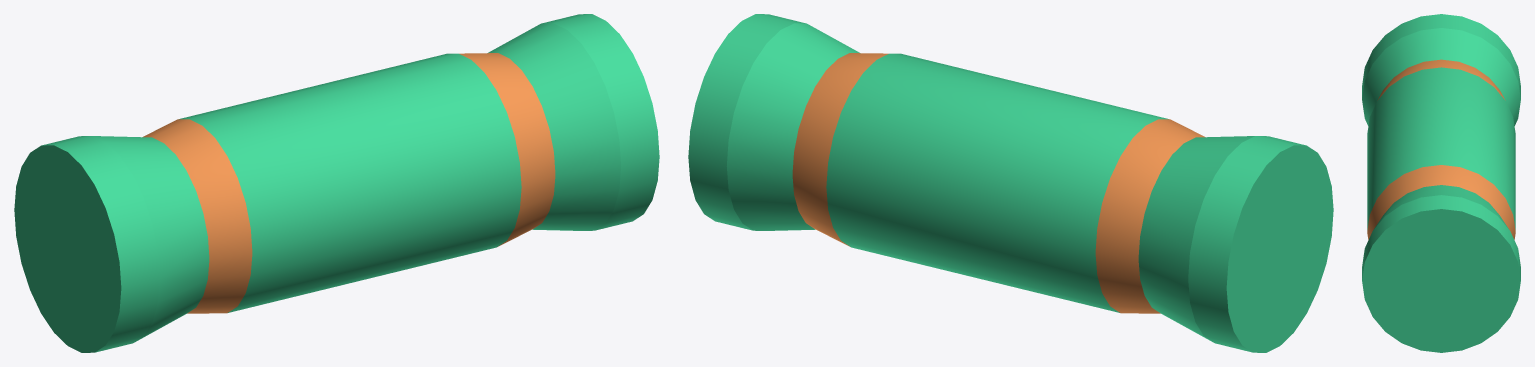
The model's file is bedrollPacked.fbx.
3 renders of one model, left to right at view 1: azimuth 30°, elevation 25°; view 2: azimuth 150°, elevation 25°; view 3: azimuth 270°, elevation 25°, orthographic. The views are drawn at different scales.
Parts seen in each view (by area): view 1: bedrollPacked; view 2: bedrollPacked; view 3: bedrollPacked.
Boxes of the visible parts, left/top/right/bottom form: bedrollPacked: left=14, top=14, right=659, bottom=352; bedrollPacked: left=688, top=14, right=1333, bottom=352; bedrollPacked: left=1362, top=14, right=1520, bottom=352.
Bounding box in the file's own units: 2.6 × 0.8968 × 0.8968.
